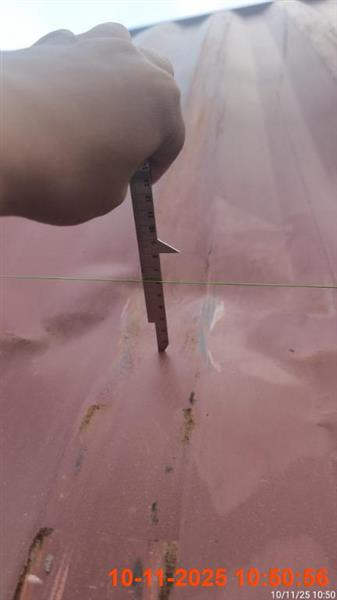rust: (0, 21, 187, 227), (1, 0, 279, 50)
